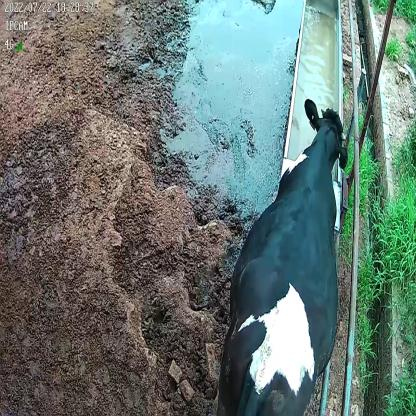cow: (216, 95, 348, 416)
